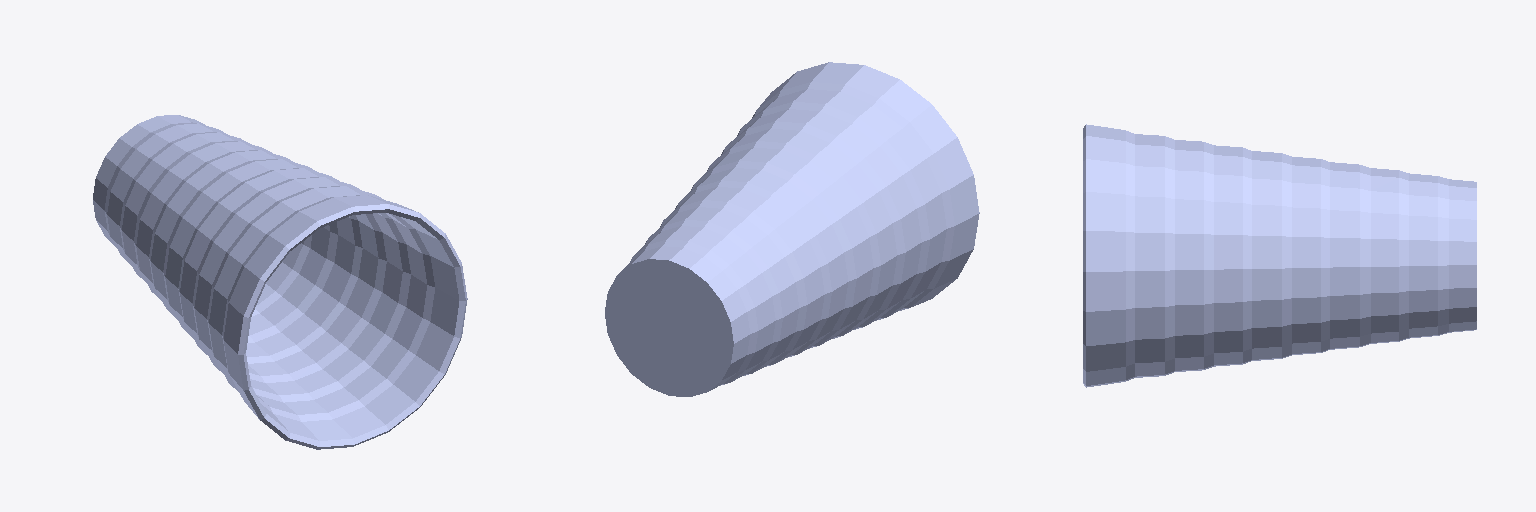
3 views of the same model, side by side, from view 1: azimuth 30°, elevation 25°; view 2: azimuth 150°, elevation 25°; view 3: azimuth 270°, elevation 25° (orthographic).
Parts seen in each view (by area): view 1: tumblerglass_Untitled; view 2: tumblerglass_Untitled; view 3: tumblerglass_Untitled.
Boxes of the visible parts, x1,y1,x2,y2 form: tumblerglass_Untitled: [93, 115, 467, 449]; tumblerglass_Untitled: [605, 62, 979, 396]; tumblerglass_Untitled: [1083, 124, 1476, 387].
Size of the model in its own units: 0.099 by 0.099 by 0.1474.
Materials: 1 (1 with a texture image).